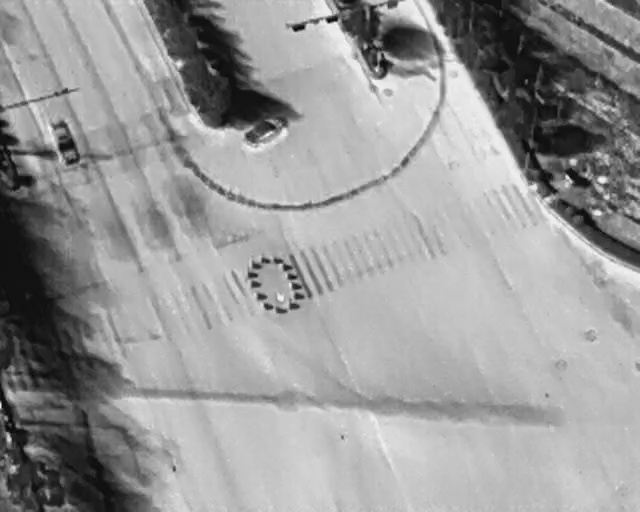Car: (240, 104, 293, 153), (49, 118, 82, 167)
